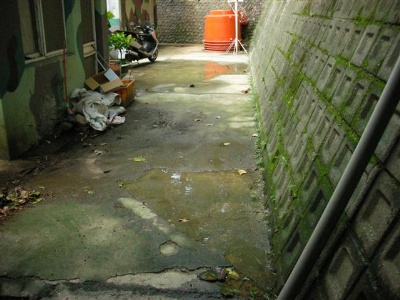box: (86, 70, 122, 92), (110, 78, 135, 108)
bucket: (204, 9, 242, 51)
plastic_bag: (76, 92, 125, 131)
